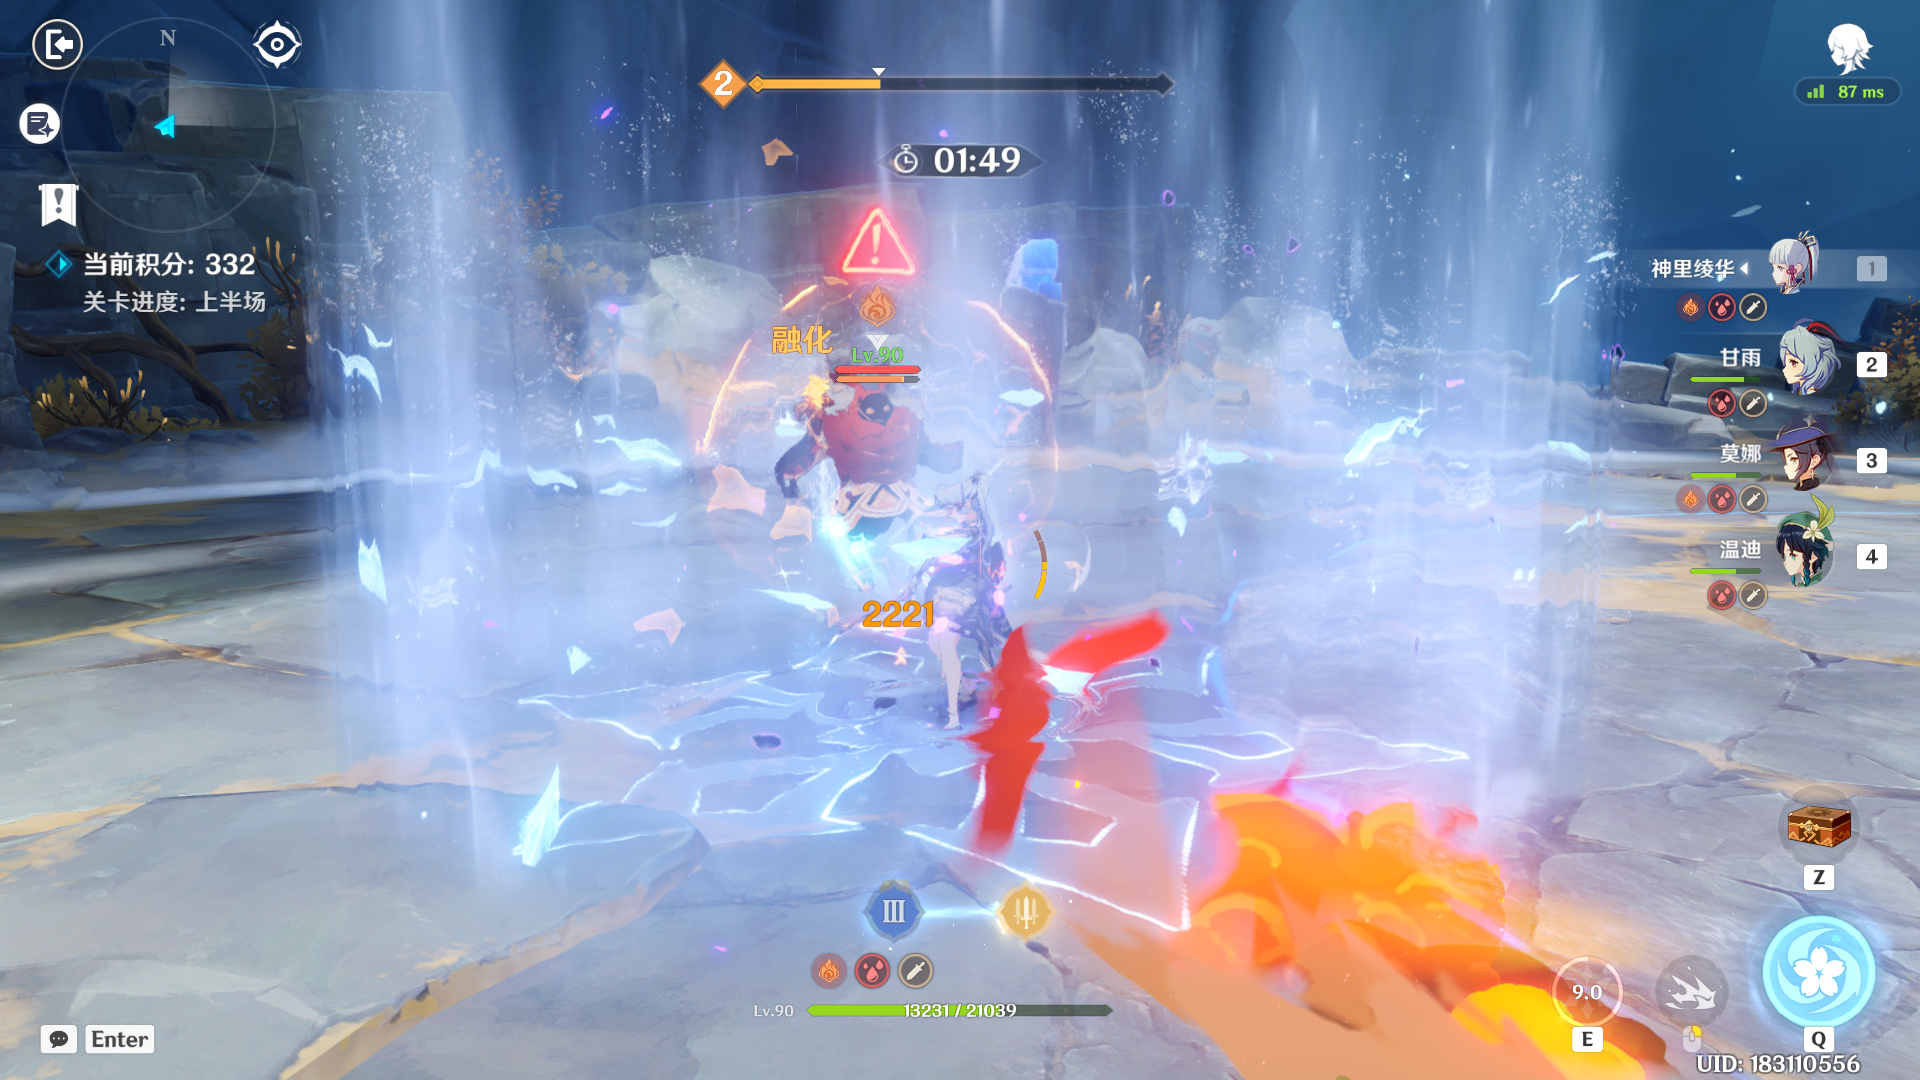caster: (742, 335, 982, 589)
